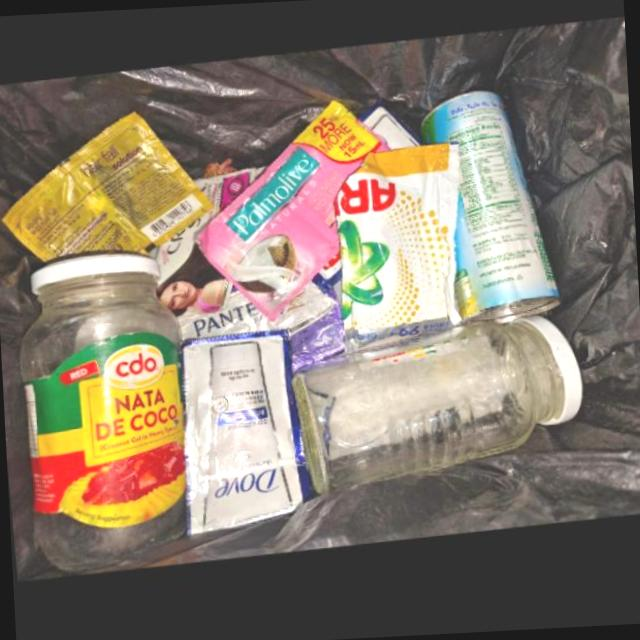chai_thuy_tinh: (16, 256, 183, 574), (288, 324, 580, 500)
goi_nhua_nho: (193, 107, 390, 327), (0, 114, 211, 264), (331, 149, 460, 360), (177, 334, 306, 541), (177, 286, 343, 377), (153, 172, 254, 320)
nhom: (418, 99, 558, 331)
